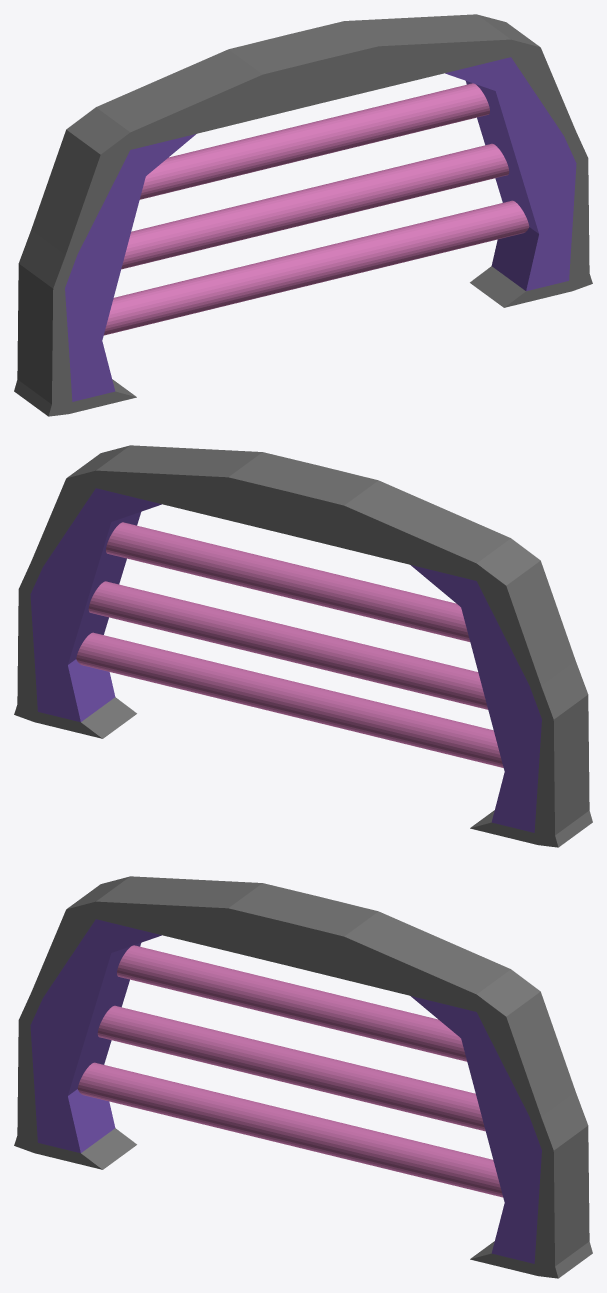
The model's file is wideObstacle.fbx.
3 renders of one model, top to bottom at view 1: azimuth 30°, elevation 25°; view 2: azimuth 150°, elevation 25°; view 3: azimuth 330°, elevation 25°, orthographic.
Visible parts, largest first — view 1: Cube; view 2: Cube; view 3: Cube.
Part boxes in pixels (x1,y1,x2,y2): Cube: (14, 14, 592, 416); Cube: (14, 445, 592, 847); Cube: (14, 876, 592, 1278).
Size of the model in its own units: 365 by 187 by 40.
